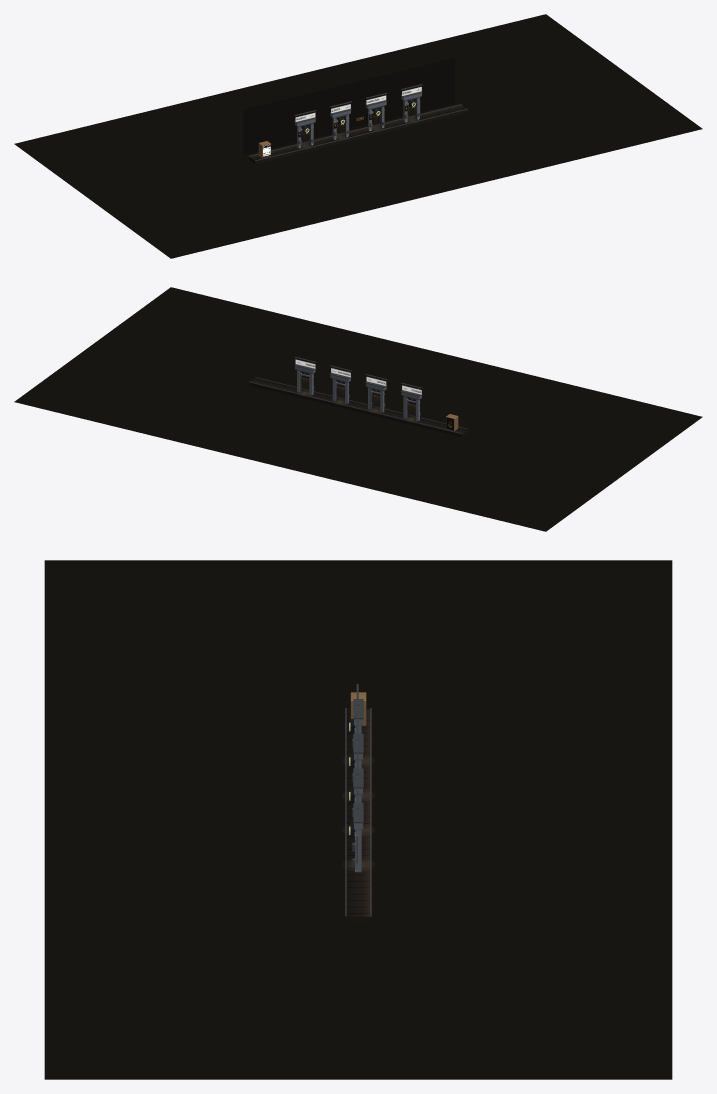
3 renders of one model, top to bottom at view 1: azimuth 30°, elevation 25°; view 2: azimuth 150°, elevation 25°; view 3: azimuth 270°, elevation 25°, orthographic. The views are drawn at different scales.
Visible parts, largest first — view 1: HallFloor, BackWall, BeltSurface, Belt-mesh-2; view 2: HallFloor, BeltSurface, Belt-mesh-2; view 3: HallFloor, BeltSurface.
Part boxes in pixels (x1=…): HallFloor: x1=14, y1=14, x2=702, y2=258; BackWall: x1=242, y1=58, x2=455, y2=155; BeltSurface: x1=249, y1=105, x2=466, y2=160; Belt-mesh-2: x1=249, y1=109, x2=467, y2=164; HallFloor: x1=14, y1=287, x2=702, y2=531; BeltSurface: x1=250, y1=378, x2=467, y2=433; Belt-mesh-2: x1=249, y1=382, x2=467, y2=437; HallFloor: x1=44, y1=560, x2=672, y2=1079; BeltSurface: x1=346, y1=709, x2=370, y2=916.
Size of what is drawn, in the model's own units: 90 by 8 by 46.
280 materials, 72 textured.
